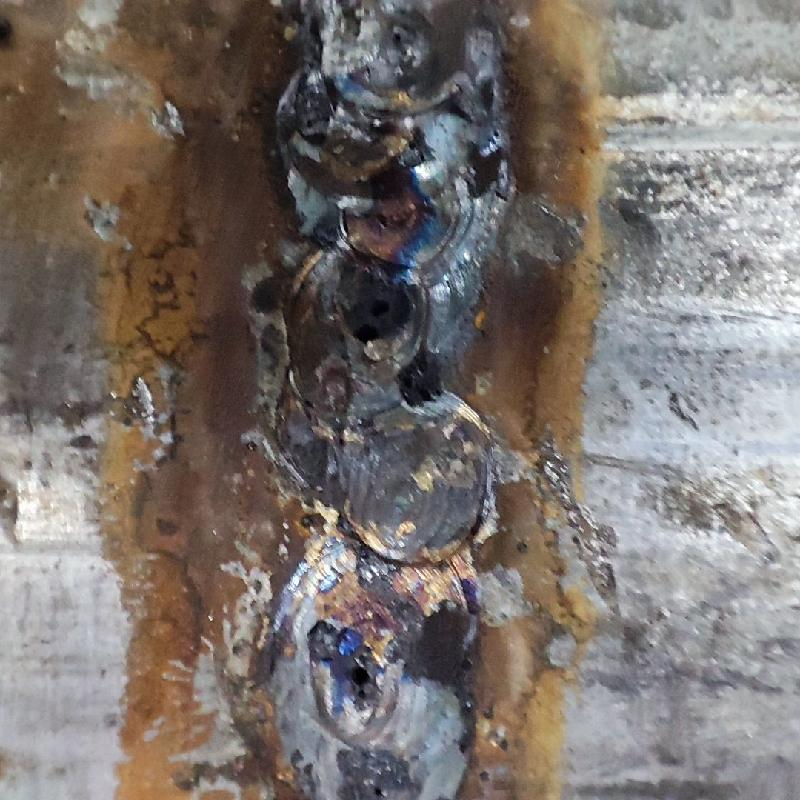Surface_pores: (320, 637, 390, 708), (348, 283, 403, 340)
crater: (277, 2, 503, 749)
